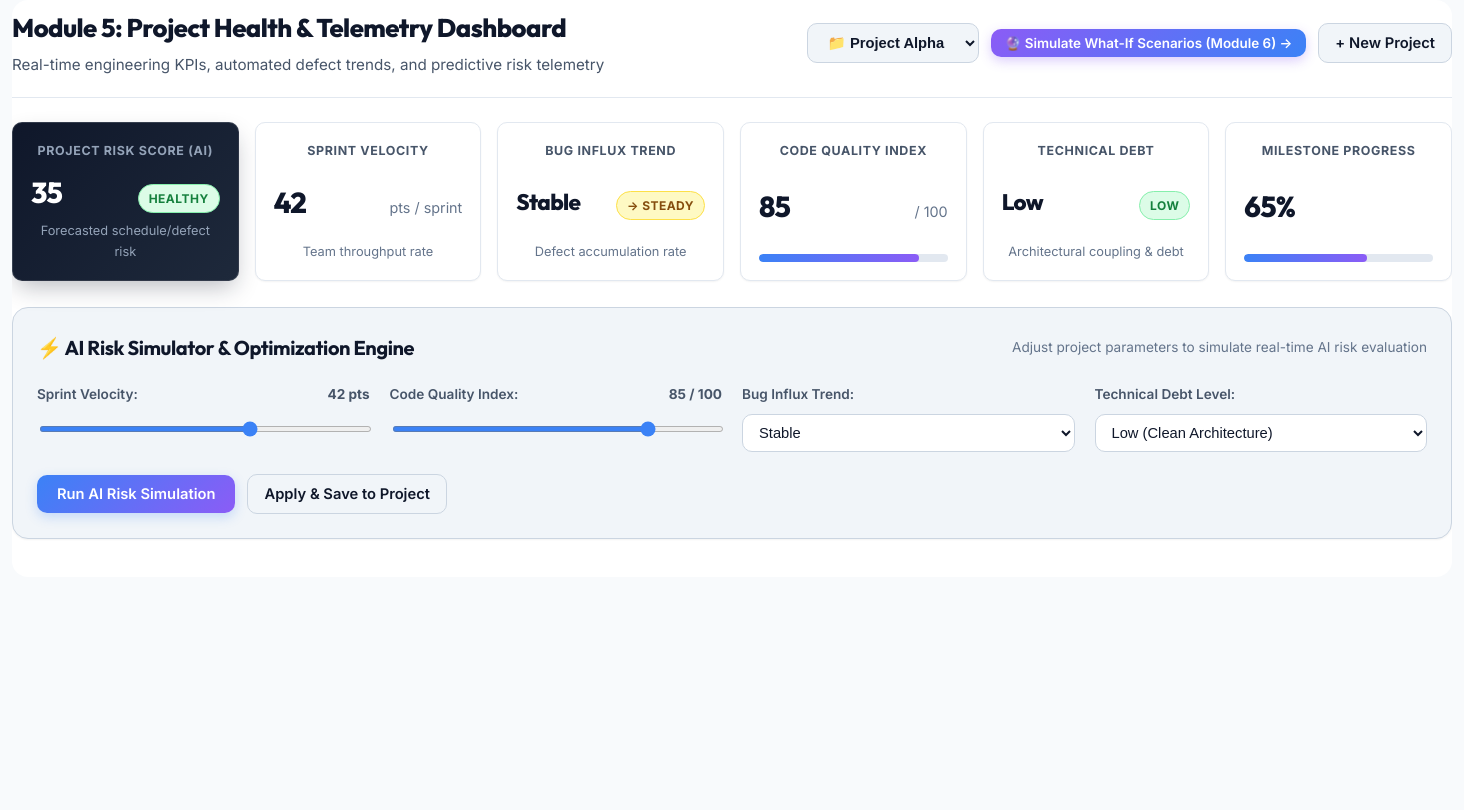
ProjectHealthDashboard › runs AI risk simulator and displays prediction result
Expected: the heading "⚡ AI Risk Simulator & Optimization Engine" is shown, top-left (37, 332), bottom-right (414, 364)
Click the button "Run AI Risk Simulation". click: (136, 494)
box: top-left (37, 475), bottom-right (236, 513)
(page scrolled)
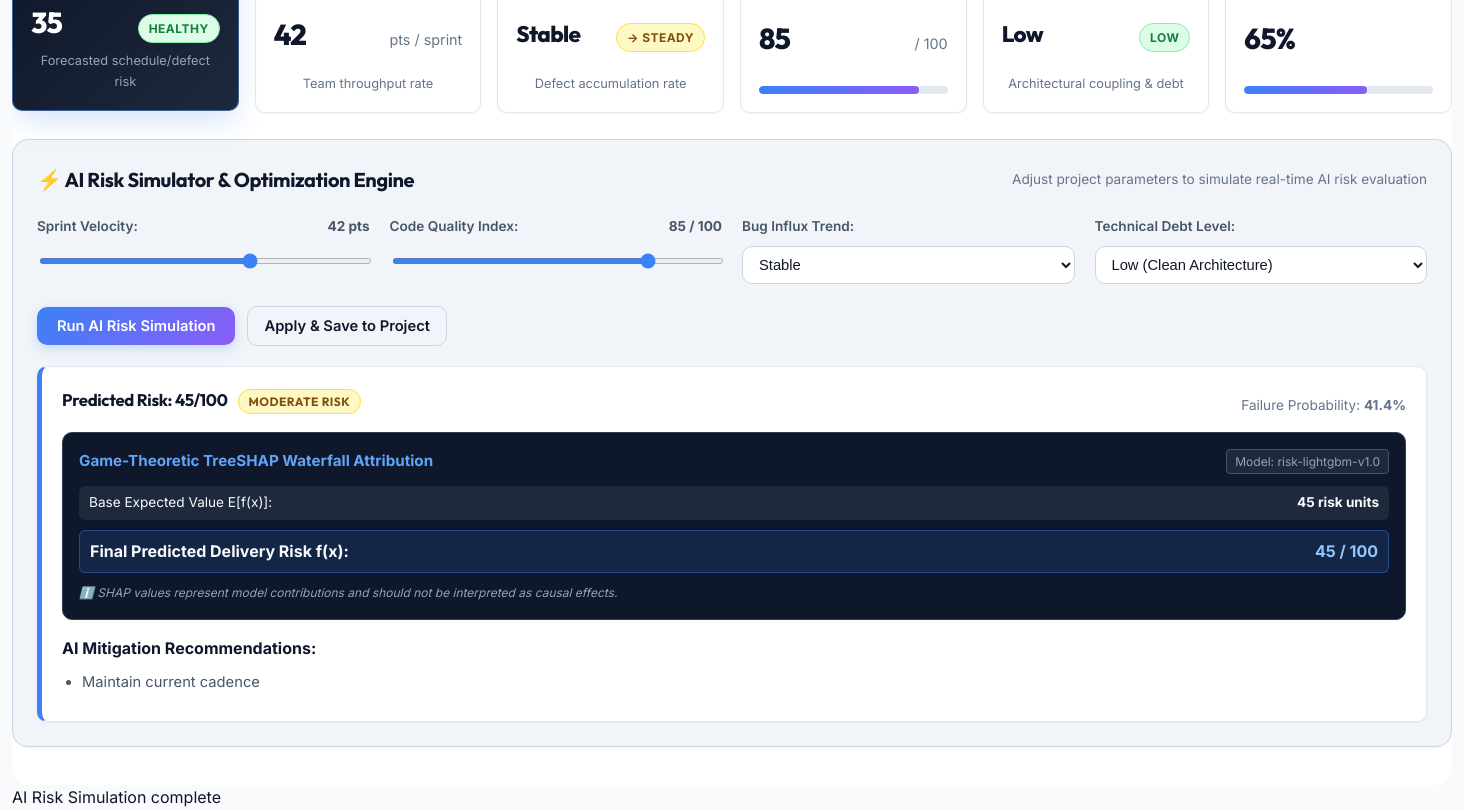
Expected: the heading "Predicted Risk: 45/100Moderate Risk" is shown, top-left (62, 387), bottom-right (361, 414)
Expected: the text "45/100" is shown, top-left (175, 389), bottom-right (228, 410)
Expected: the list item "Maintain current cadence" is shown, top-left (82, 673), bottom-right (260, 691)
